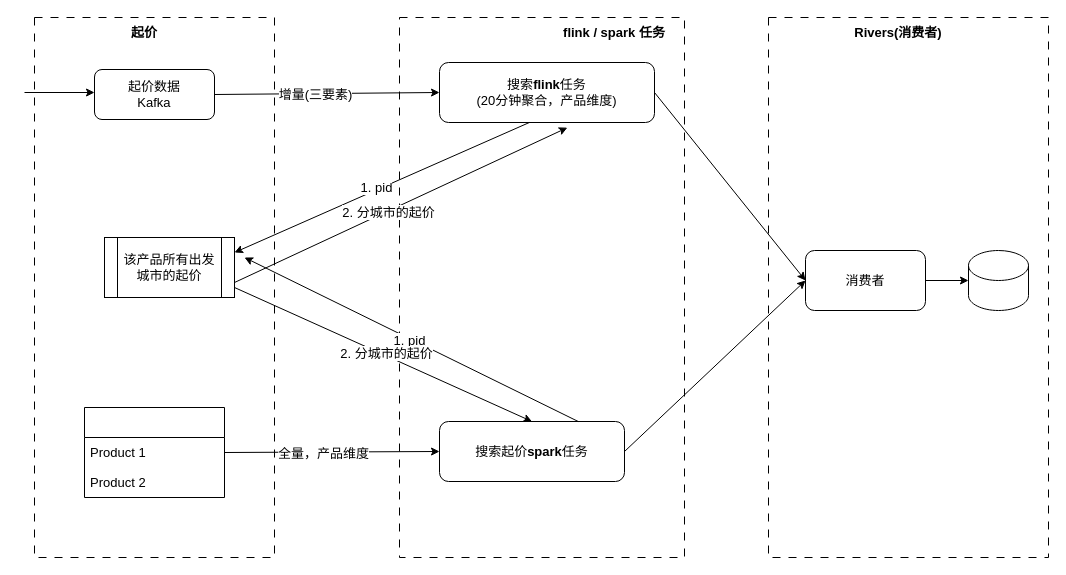
This 1066x575 diagram has some shape labels left out. The shapes that lost their labels are listed below. From the top down, each one's box as (x1, y1, x2, y2) in pixels, then its label:
(968, 250, 1028, 310): ES
(84, 406, 224, 498): 商品表
